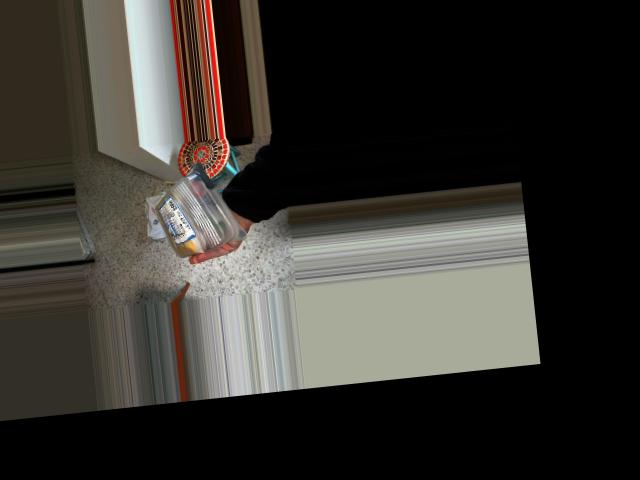cheese: (132, 153, 248, 259)
